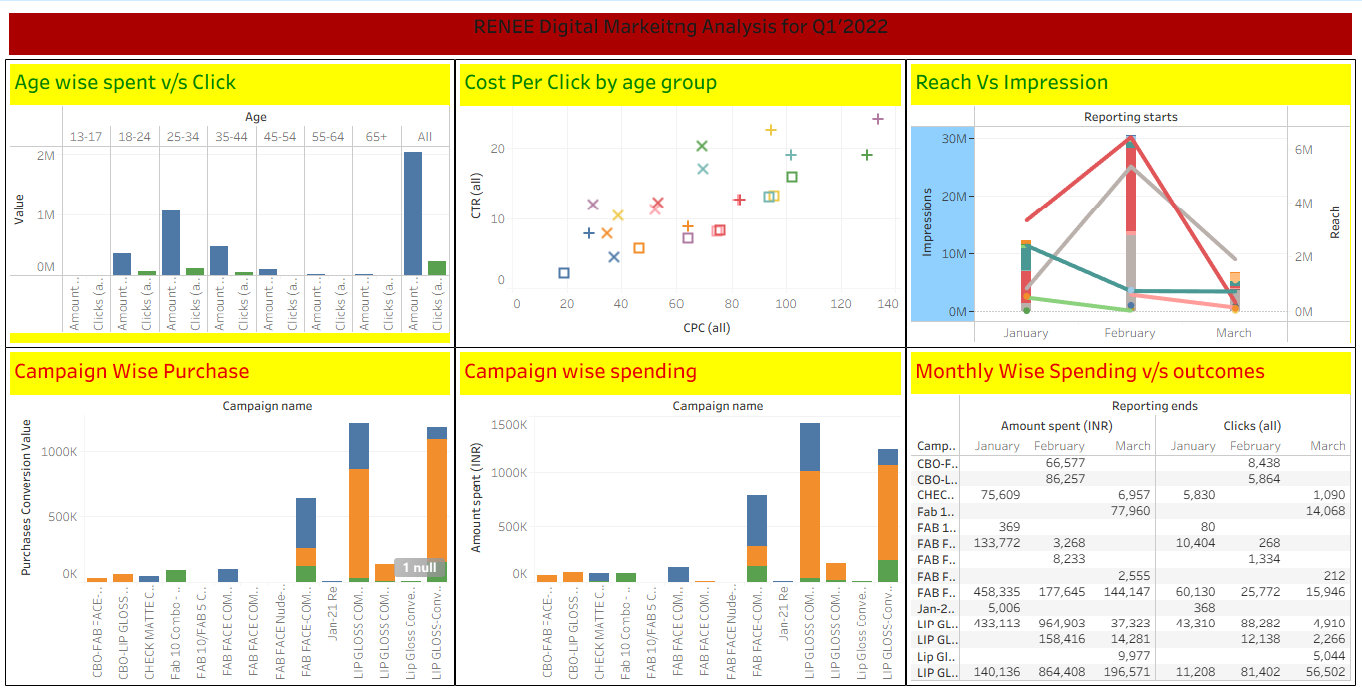

This screenshot's page, from the dashboard's own definition file:
{"tool":"tableau","page":{"name":"Dashboard 1","canvas":[1000,1000],"units":"permille","ordinal":0},"visuals":[{"type":"text","box":[7.1,13.5,985.8,71]},{"type":"worksheet","title":"Age/click","mark":"Automatic","cols":["Age"],"box":[8,86.2,326.9,412.2]},{"type":"worksheet","title":"cost/click","mark":"Automatic","rows":["CTR (all)"],"cols":["CPC (all)"],"box":[336.6,86.2,326.9,412.2]},{"type":"worksheet","title":"RI","mark":"Line","rows":["Impressions","Reach"],"cols":["Reporting starts"],"box":[665.2,86.2,326.9,412.2]},{"type":"worksheet","title":"Purchase wise","mark":"Automatic","rows":["Purchases Conversion Value"],"cols":["Campaign name"],"box":[8,501.7,326.9,483.1]},{"type":"worksheet","title":"Spending wise","mark":"Automatic","rows":["Amount spent (INR)"],"cols":["Campaign name"],"box":[336.6,501.7,326.9,483.1]},{"type":"worksheet","title":"Sheet 6","mark":"Automatic","rows":["Campaign name"],"cols":["Reporting ends"],"box":[665.2,501.7,326.9,483.1]}]}

Visuals, with their boxes on the dashboard's canvas, which has no fixed pixel size, in thousandths of its width and height (x1, y1, x2, y2). These are canvas units, not pixel positions in the 1362x694 screenshot, which may show the page scaled, cropped or inside an application window:
text: Rect(7, 14, 993, 84)
"Age/click" worksheet: Rect(8, 86, 335, 498)
"cost/click" worksheet: Rect(337, 86, 664, 498)
"RI" worksheet (Line marks): Rect(665, 86, 992, 498)
"Purchase wise" worksheet: Rect(8, 502, 335, 985)
"Spending wise" worksheet: Rect(337, 502, 664, 985)
"Sheet 6" worksheet: Rect(665, 502, 992, 985)
